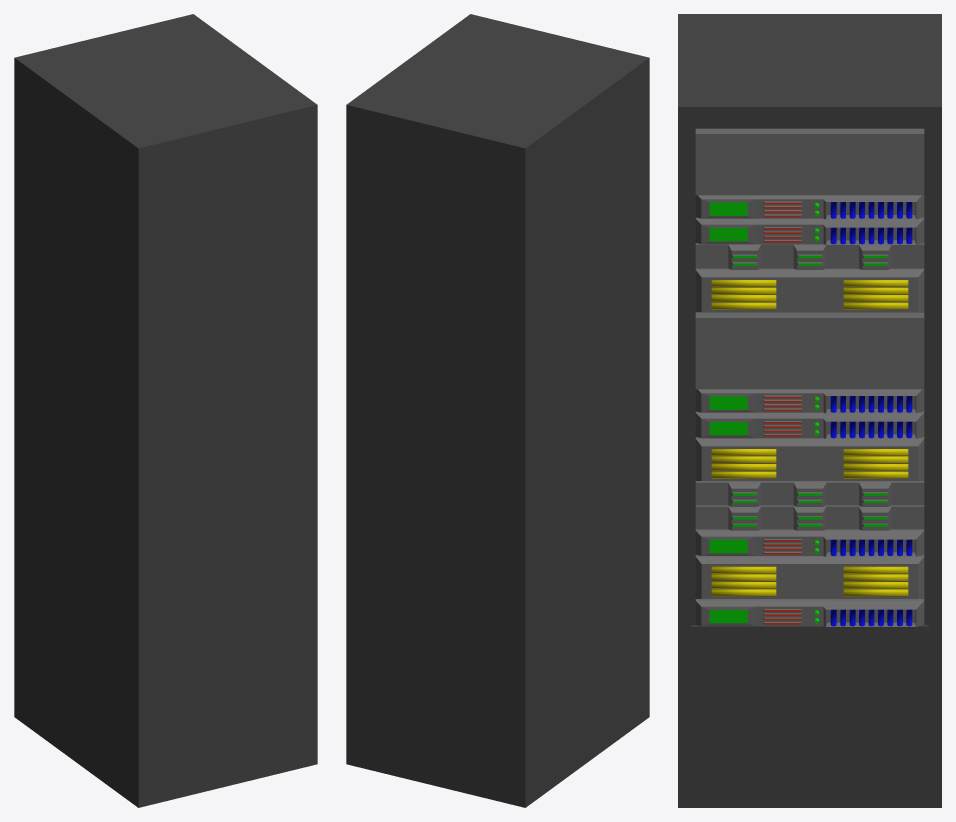
The model's file is Server_V1.fbx.
3 views of the same model, side by side, from view 1: azimuth 30°, elevation 25°; view 2: azimuth 150°, elevation 25°; view 3: azimuth 270°, elevation 25° (orthographic). The views are drawn at different scales.
Visible parts, largest first — view 1: Cube.001; view 2: Cube.001; view 3: Cube.001.
Part boxes in pixels (x1,y1,x2,y2): Cube.001: [14, 14, 317, 807]; Cube.001: [346, 14, 649, 807]; Cube.001: [678, 14, 941, 807].
Size of the model in its own units: 531 by 1760 by 600.
